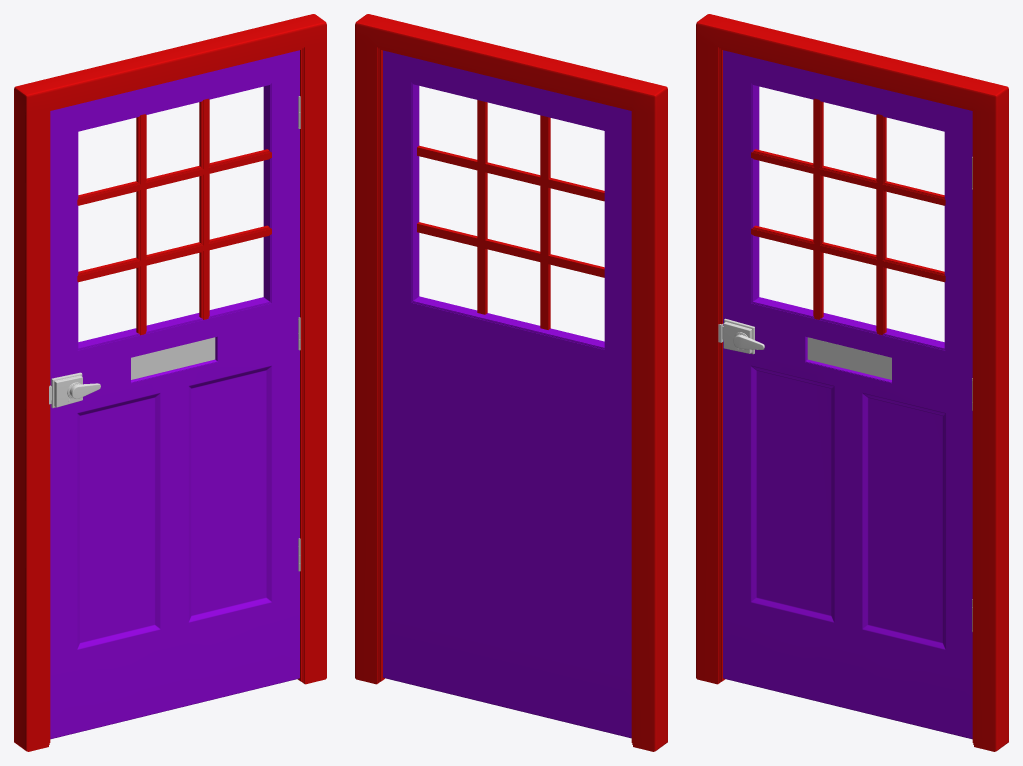
File: Door.fbx
3 renders of one model, left to right at view 1: azimuth 30°, elevation 25°; view 2: azimuth 150°, elevation 25°; view 3: azimuth 330°, elevation 25°, orthographic.
Visible parts, largest first — view 1: Door2; view 2: Door2; view 3: Door2.
Boxes of the visible parts, x1,y1,x2,y2 form: Door2: (14, 14, 326, 751); Door2: (355, 14, 667, 751); Door2: (696, 14, 1008, 751).
Size of the model in its own units: 14.26 by 29.66 by 1.41.
